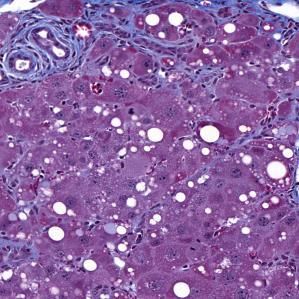fibrosis: (118, 8, 293, 81), (7, 10, 104, 85)
